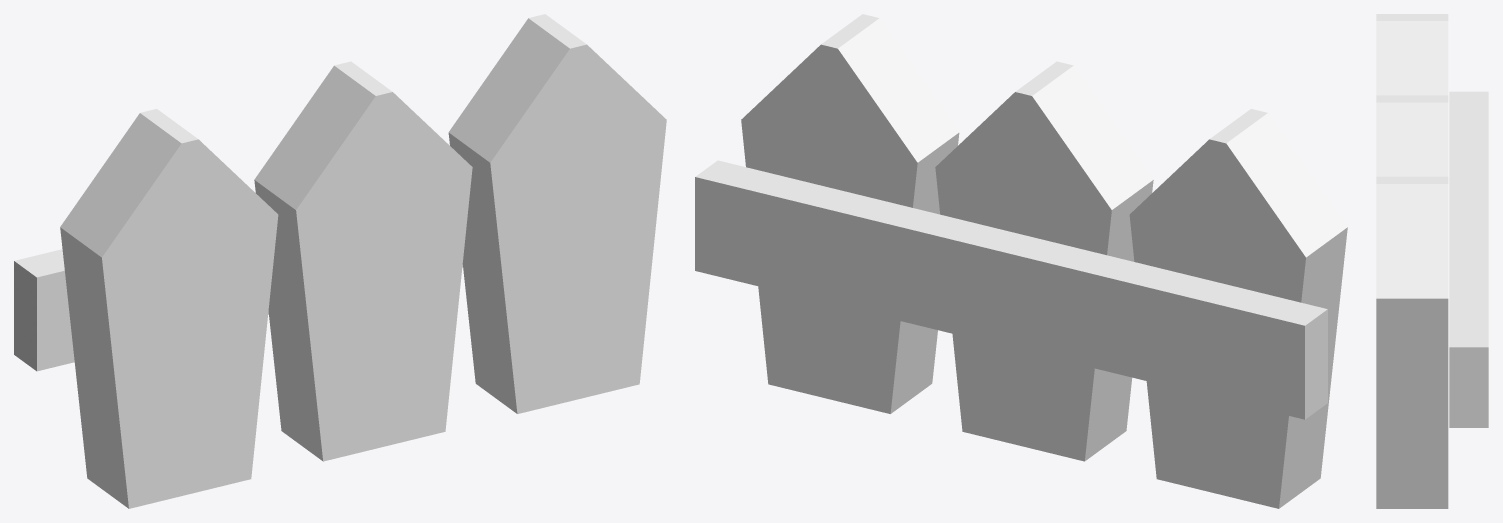
Rendered from Fence.fbx.
3 renders of one model, left to right at view 1: azimuth 30°, elevation 25°; view 2: azimuth 150°, elevation 25°; view 3: azimuth 270°, elevation 25°, orthographic. The views are drawn at different scales.
Visible parts, largest first — view 1: Fence; view 2: Fence; view 3: Fence.
Boxes of the visible parts, x1=… form: Fence: x1=14, y1=14, x2=666, y2=508; Fence: x1=695, y1=14, x2=1347, y2=508; Fence: x1=1376, y1=14, x2=1488, y2=508.
Size of the model in its own units: 177 by 97.52 by 32.68.
